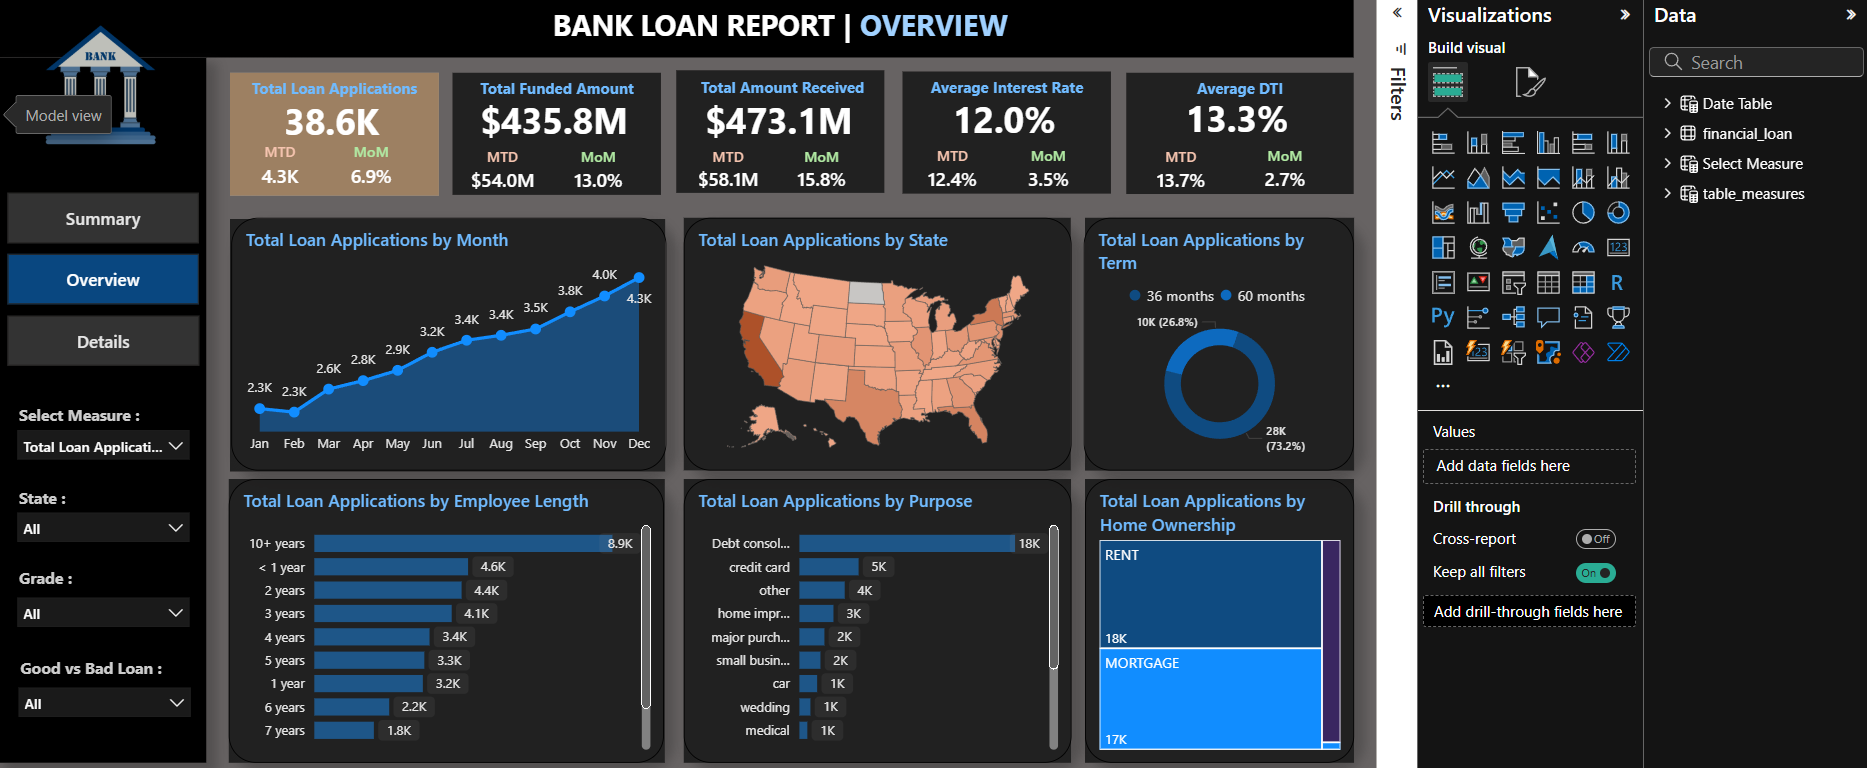

What the dashboard file says about the page in this screenshot:
{"tool":"powerbi","page":{"name":"Overview","canvas":[1280,720],"ordinal":1},"visuals":[{"type":"shape","box":[629.2,66.4,193.8,114.2],"z":0,"group":"g3"},{"type":"shape","box":[839.7,67.5,194.5,114],"z":0,"group":"g4"},{"type":"shape","box":[214.3,68.6,194.3,114.3],"z":0,"group":"g1"},{"type":"shape","box":[421.4,68.6,194.5,114],"z":0,"group":"g2"},{"type":"shape","box":[1047.5,69,211.7,112.9],"z":0,"group":"g5"},{"type":"shape","box":[214.3,204.3,405,235],"z":0},{"type":"shape","box":[0,0,1259.3,54.7],"z":1000},{"type":"card","fields":{"Values":["table_measures.avg_interest_rate"]},"box":[851.5,82.1,165.9,58.4],"z":1000,"group":"g4"},{"type":"card","fields":{"Values":["table_measures.total_loan_appl"]},"box":[247.2,83.2,124.3,61.3],"z":1000,"group":"g1"},{"type":"card","fields":{"Values":["table_measures.total_funded_amt"]},"box":[433.2,83.2,165.9,58.4],"z":1000,"group":"g2"},{"type":"card","fields":{"Values":["table_measures.avg_DTI"]},"box":[1060.3,83.4,180.6,57.8],"z":1000,"group":"g5"},{"type":"card","fields":{"Values":["table_measures.total_received_amt"]},"box":[643.2,85.3,163.1,55.8],"z":1000,"group":"g3"},{"type":"shape","box":[0,54.7,191.9,655.8],"z":2000},{"type":"textbox","box":[632.2,67,191,41.6],"z":2000,"group":"g3"},{"type":"textbox","box":[839.7,67.5,194.5,38.9],"z":2000,"group":"g4"},{"type":"textbox","box":[214.3,68.6,194.3,39],"z":2000,"group":"g1"},{"type":"textbox","box":[421.4,68.6,194.5,38.9],"z":2000,"group":"g2"},{"type":"textbox","box":[1047.5,69,211.7,38.5],"z":2000,"group":"g5"},{"type":"card","title":"MTD","fields":{"Values":["table_measures.MTD_loan_appl"]},"box":[235.7,132.7,51.4,50.2],"z":3000,"group":"g1"},{"type":"card","title":"MTD","fields":{"Values":["table_measures.MTD_interest_rate"]},"box":[851.5,136.3,70.1,48.6],"z":3000,"group":"g4"},{"type":"card","title":"MTD","fields":{"Values":["table_measures.MTD_received_amt"]},"box":[643.2,137.1,68.9,46.5],"z":3000,"group":"g3"},{"type":"card","title":"MTD","fields":{"Values":["table_measures.MTD_avg_DTI"]},"box":[1060.3,137.1,76.3,48.2],"z":3000,"group":"g5"},{"type":"card","title":"MTD","fields":{"Values":["table_measures.MTD_funded_amt"]},"box":[433.2,137.4,70.1,48.6],"z":3000,"group":"g2"},{"type":"textbox","box":[12.4,448.7,119.7,38.5],"z":3000},{"type":"textbox","box":[509.2,1.4,447.3,49.5],"z":4000},{"type":"card","title":"MoM","fields":{"Values":["table_measures.MOM_loan_appl"]},"box":[320,132.7,51.4,50.2],"z":4000,"group":"g1"},{"type":"card","title":"MoM","fields":{"Values":["table_measures.MOM_interest_rate"]},"box":[946.6,136.1,57.8,49.7],"z":4000,"group":"g4"},{"type":"card","title":"MoM","fields":{"Values":["table_measures.MOM_received_amt"]},"box":[736.7,136.9,56.8,47.5],"z":4000,"group":"g3"},{"type":"card","title":"MoM","fields":{"Values":["table_measures.MOM_avg_DTI"]},"box":[1163.9,136.9,62.9,49.2],"z":4000,"group":"g5"},{"type":"card","title":"MoM","fields":{"Values":["table_measures.MOM_funded_amt"]},"box":[528.3,137.2,57.8,49.7],"z":4000,"group":"g2"},{"type":"group","id":"g1","title":"Group 1","box":[214.3,68.6,194.3,114.3],"z":5000},{"type":"group","id":"g2","title":"Group 1","box":[421.4,68.6,194.3,118],"z":6000},{"type":"group","id":"g3","title":"Group 1","box":[629.2,66.4,194,118],"z":7000},{"type":"group","id":"g4","title":"Group 1","box":[839.7,67.5,194.5,118.2],"z":8000},{"type":"group","id":"g5","title":"Group 1","box":[1047.5,69,211.5,116.9],"z":9000},{"type":"shape","box":[635.9,203.7,360,235],"z":10000},{"type":"slicer","fields":{"Values":["financial_loan.address_state"]},"box":[5.5,468,180.3,50.9],"z":11000},{"type":"slicer","fields":{"Values":["financial_loan.grade"]},"box":[5.5,546.4,180.3,50.9],"z":12000},{"type":"textbox","box":[12.4,523,119.7,38.5],"z":13000},{"type":"slicer","fields":{"Values":["financial_loan.Good vs Band Loan"]},"box":[6.9,630.4,180.3,50.9],"z":14000},{"type":"textbox","box":[13.8,607,163.8,38.5],"z":15000},{"type":"areaChart","fields":{"Y":["table_measures.total_loan_appl"],"Category":["Date Table.Month"]},"box":[214.7,203.7,404.6,235.4],"z":16000},{"type":"slicer","fields":{"Values":["Select Measure.Select Measure"]},"box":[5.5,390.9,180.3,55.1],"z":17000},{"type":"shape","box":[213.3,445.9,406,264.3],"z":18000},{"type":"shapeMap","fields":{"Value":["table_measures.total_loan_appl"],"Category":["financial_loan.address_state"]},"box":[635.9,203.7,360.6,235.4],"z":19000},{"type":"shape","box":[1008.9,203.7,250.5,235.4],"z":20000},{"type":"donutChart","fields":{"Y":["table_measures.total_loan_appl"],"Category":["financial_loan.term"]},"box":[1008.1,203.5,251.2,234.9],"z":21000},{"type":"barChart","fields":{"Y":["table_measures.total_loan_appl"],"Category":["financial_loan.emp_length"]},"box":[213.3,445.9,404.6,264.3],"z":22000},{"type":"textbox","box":[12.4,371.6,139,38.5],"z":23000},{"type":"shape","box":[635.9,445.9,360.6,264.3],"z":24000},{"type":"barChart","fields":{"Y":["table_measures.total_loan_appl"],"Category":["financial_loan.purpose"]},"box":[635.9,445.9,360.6,264.3],"z":25000},{"type":"shape","box":[1008.9,445.9,250.5,264.3],"z":26000},{"type":"treemap","fields":{"Values":["table_measures.total_loan_appl"],"Group":["financial_loan.home_ownership"]},"box":[1009.3,446.5,250,264],"z":27000},{"type":"pageNavigator","box":[6.9,180.3,178.9,163.8],"z":28000},{"type":"image","box":[0,1.4,187.2,156.9],"z":29000}]}

Visuals, with their boxes on the page's 1280x720 design canvas (x1, y1, x2, y2). These are canvas units, not pixel positions in the 1867x768 screenshot, which may show the page scaled, cropped or inside an application window:
shape: BBox(629, 66, 823, 181)
shape: BBox(840, 68, 1034, 182)
shape: BBox(214, 69, 409, 183)
shape: BBox(421, 69, 616, 183)
shape: BBox(1048, 69, 1259, 182)
shape: BBox(214, 204, 619, 439)
shape: BBox(0, 0, 1259, 55)
card - table_measures.avg_interest_rate: BBox(852, 82, 1017, 140)
card - table_measures.total_loan_appl: BBox(247, 83, 372, 144)
card - table_measures.total_funded_amt: BBox(433, 83, 599, 142)
card - table_measures.avg_DTI: BBox(1060, 83, 1241, 141)
card - table_measures.total_received_amt: BBox(643, 85, 806, 141)
shape: BBox(0, 55, 192, 710)
textbox: BBox(632, 67, 823, 109)
textbox: BBox(840, 68, 1034, 106)
textbox: BBox(214, 69, 409, 108)
textbox: BBox(421, 69, 616, 108)
textbox: BBox(1048, 69, 1259, 108)
"MTD" card: BBox(236, 133, 287, 183)
"MTD" card: BBox(852, 136, 922, 185)
"MTD" card: BBox(643, 137, 712, 184)
"MTD" card: BBox(1060, 137, 1137, 185)
"MTD" card: BBox(433, 137, 503, 186)
textbox: BBox(12, 449, 132, 487)
textbox: BBox(509, 1, 956, 51)
"MoM" card: BBox(320, 133, 371, 183)
"MoM" card: BBox(947, 136, 1004, 186)
"MoM" card: BBox(737, 137, 794, 184)
"MoM" card: BBox(1164, 137, 1227, 186)
"MoM" card: BBox(528, 137, 586, 187)
"Group 1" group: BBox(214, 69, 409, 183)
"Group 1" group: BBox(421, 69, 616, 187)
"Group 1" group: BBox(629, 66, 823, 184)
"Group 1" group: BBox(840, 68, 1034, 186)
"Group 1" group: BBox(1048, 69, 1259, 186)
shape: BBox(636, 204, 996, 439)
slicer - financial_loan.address_state: BBox(6, 468, 186, 519)
slicer - financial_loan.grade: BBox(6, 546, 186, 597)
textbox: BBox(12, 523, 132, 562)
slicer - financial_loan.Good vs Band Loan: BBox(7, 630, 187, 681)
textbox: BBox(14, 607, 178, 646)
areaChart - table_measures.total_loan_appl x Date Table.Month: BBox(215, 204, 619, 439)
slicer - Select Measure.Select Measure: BBox(6, 391, 186, 446)
shape: BBox(213, 446, 619, 710)
shapeMap - table_measures.total_loan_appl x financial_loan.address_state: BBox(636, 204, 996, 439)
shape: BBox(1009, 204, 1259, 439)
donutChart - table_measures.total_loan_appl x financial_loan.term: BBox(1008, 204, 1259, 438)
barChart - table_measures.total_loan_appl x financial_loan.emp_length: BBox(213, 446, 618, 710)
textbox: BBox(12, 372, 151, 410)
shape: BBox(636, 446, 996, 710)
barChart - table_measures.total_loan_appl x financial_loan.purpose: BBox(636, 446, 996, 710)
shape: BBox(1009, 446, 1259, 710)
treemap - table_measures.total_loan_appl x financial_loan.home_ownership: BBox(1009, 446, 1259, 710)
pageNavigator: BBox(7, 180, 186, 344)
image: BBox(0, 1, 187, 158)
